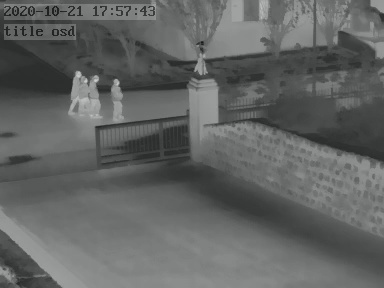person: (88, 73, 105, 120), (68, 67, 82, 118), (110, 78, 125, 121), (78, 75, 90, 116), (195, 52, 208, 75)
